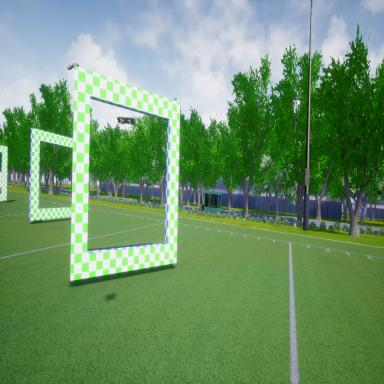gate: (67, 57, 182, 291), (28, 120, 74, 221)
